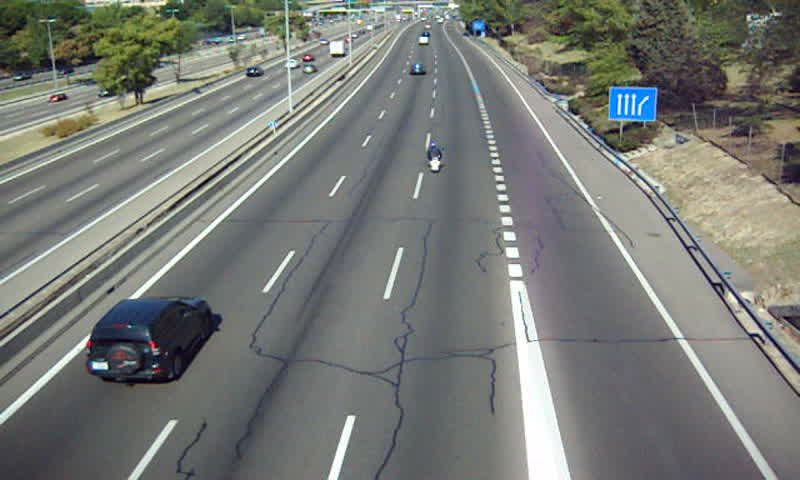car: (88, 297, 211, 382), (408, 62, 427, 77)
motorcycle: (425, 144, 442, 175)
